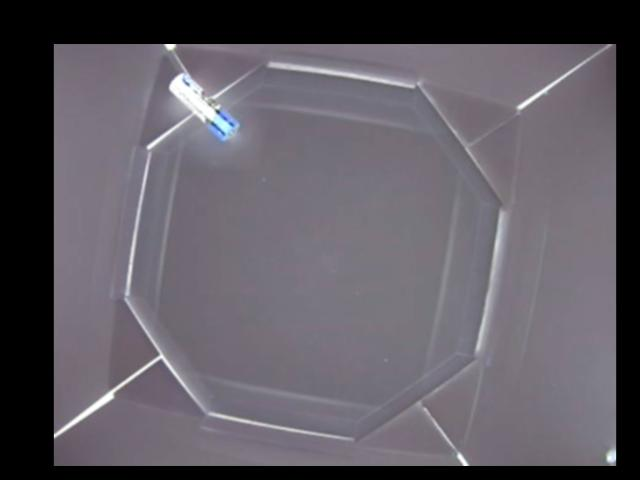Battery: (168, 71, 239, 140)
